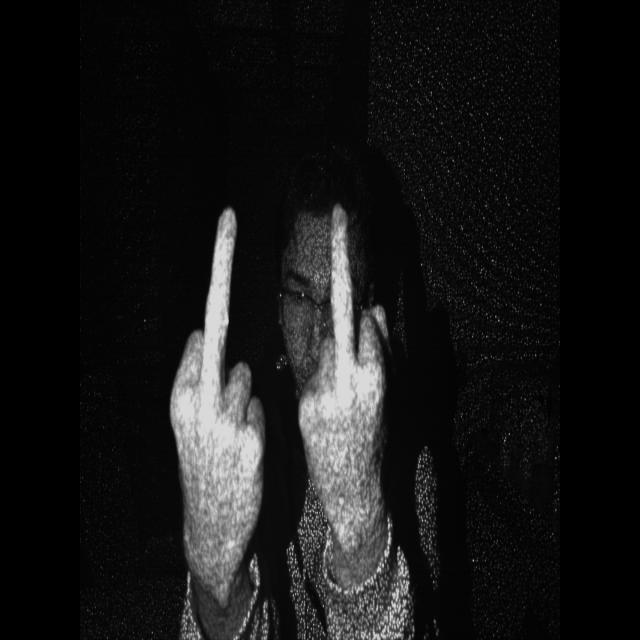FUCK YOU: (162, 198, 264, 563), (299, 199, 398, 562)
